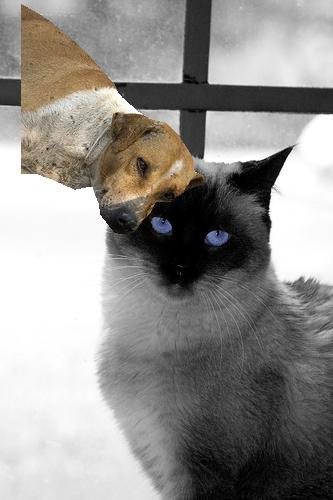tampered: (22, 5, 205, 234)
